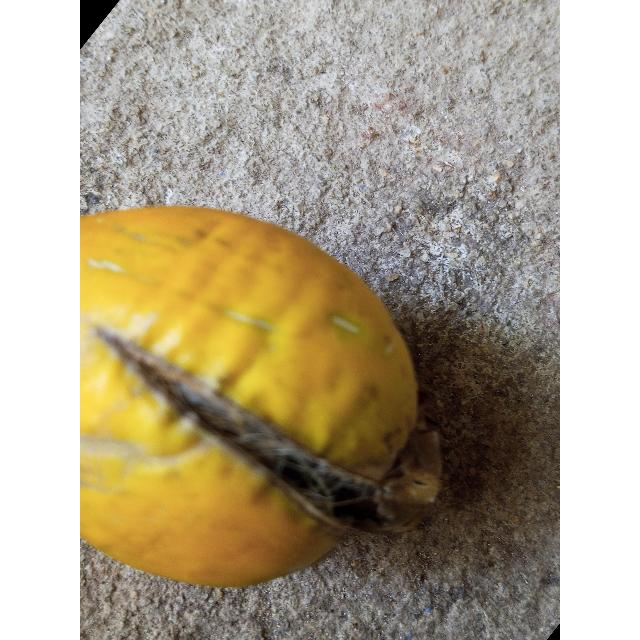damaged: (80, 206, 440, 591)
